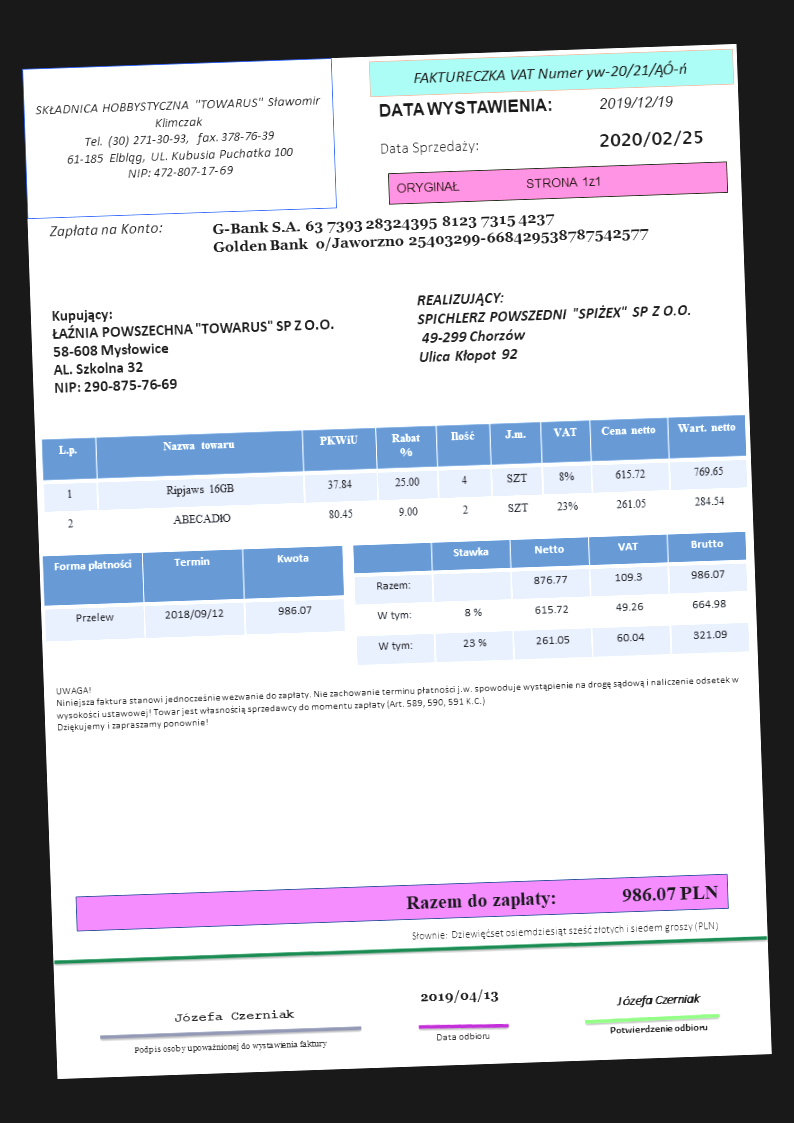Table: (40, 411, 749, 545), (352, 530, 752, 668), (41, 544, 345, 645)
TextBox: (53, 659, 743, 736), (49, 296, 338, 396), (30, 90, 327, 186), (209, 203, 652, 260), (414, 281, 695, 368), (403, 879, 720, 915), (408, 55, 692, 90), (409, 916, 723, 945), (393, 170, 606, 197), (375, 93, 555, 121), (131, 1035, 329, 1057), (596, 124, 706, 151), (378, 134, 481, 159), (47, 217, 163, 239), (171, 1006, 296, 1025), (595, 89, 678, 114), (416, 985, 500, 1009), (612, 988, 703, 1010), (607, 1019, 712, 1038), (432, 1028, 493, 1043)
